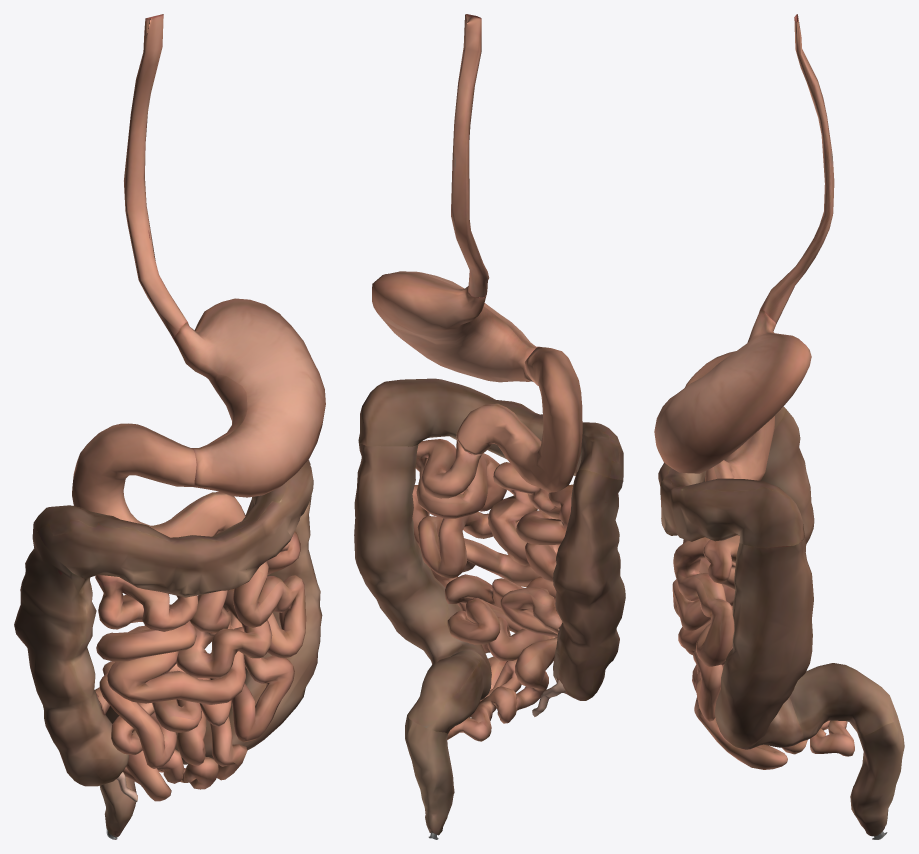
The model's file is digestive-tract.glb.
The picture shows the model from 3 angles, left to right: view 1: azimuth 30°, elevation 25°; view 2: azimuth 150°, elevation 25°; view 3: azimuth 270°, elevation 25°; orthographic projection. The views are drawn at different scales.
Parts seen in each view (by area): view 1: Ileum_and_Jejunum, Stomach, Transverse_colon, Ascending_colon, Duodenum, Esophagus, Descending_colon, Rectum; view 2: Ileum_and_Jejunum, Descending_colon, Ascending_colon, Stomach, Transverse_colon, Duodenum, Esophagus, Sigmoid_colon, Rectum; view 3: Descending_colon, Stomach, Ileum_and_Jejunum, Transverse_colon, Sigmoid_colon, Rectum, Esophagus, Ascending_colon, Duodenum.
Part boxes in pixels (bbox=[...]): Ileum_and_Jejunum: bbox=[95, 531, 306, 801]; Stomach: bbox=[173, 298, 325, 497]; Transverse_colon: bbox=[36, 459, 313, 597]; Ascending_colon: bbox=[14, 517, 128, 786]; Duodenum: bbox=[72, 423, 245, 537]; Esophagus: bbox=[124, 14, 187, 338]; Descending_colon: bbox=[175, 496, 322, 764]; Rectum: bbox=[100, 777, 136, 837]; Ileum_and_Jejunum: bbox=[412, 439, 573, 741]; Descending_colon: bbox=[354, 441, 491, 679]; Ascending_colon: bbox=[553, 470, 625, 700]; Stomach: bbox=[372, 271, 539, 382]; Transverse_colon: bbox=[358, 378, 623, 481]; Duodenum: bbox=[456, 347, 582, 492]; Esophagus: bbox=[451, 14, 489, 297]; Sigmoid_colon: bbox=[407, 650, 491, 733]; Rectum: bbox=[405, 715, 454, 835]; Descending_colon: bbox=[714, 537, 813, 749]; Stomach: bbox=[654, 309, 811, 473]; Ileum_and_Jejunum: bbox=[672, 535, 854, 769]; Transverse_colon: bbox=[658, 406, 804, 547]; Sigmoid_colon: bbox=[789, 663, 897, 741]; Rectum: bbox=[850, 716, 904, 836]; Esophagus: bbox=[760, 14, 834, 323]; Ascending_colon: bbox=[760, 408, 814, 544]; Duodenum: bbox=[685, 351, 774, 481].
Bounding box in the file's own units: 0.2111 × 0.6158 × 0.1702.
Materials: 11 (11 with a texture image).
